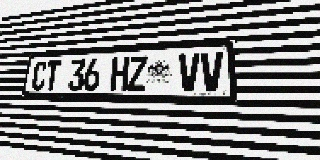3: (68, 59, 86, 91)
6: (83, 58, 102, 91)
C: (31, 61, 48, 91)
H: (110, 57, 129, 91)
T: (44, 60, 61, 91)
V: (200, 52, 224, 92), (178, 53, 200, 92)
Z: (128, 56, 148, 91)
